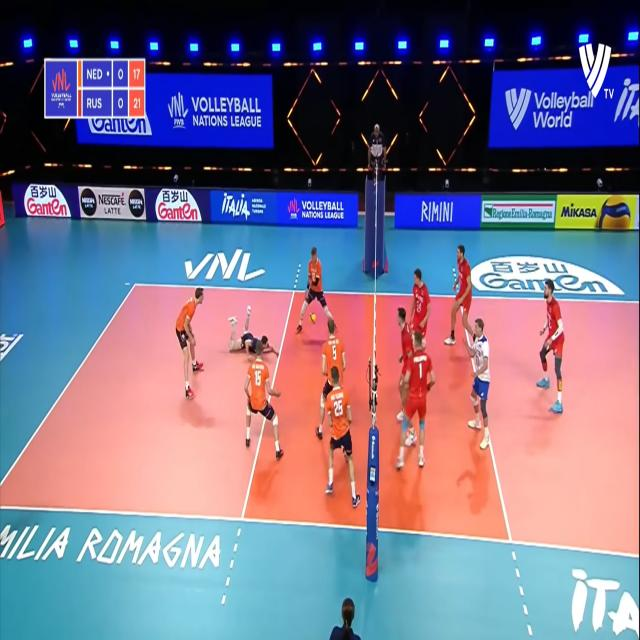player: (395, 329, 430, 470), (247, 338, 287, 457), (328, 364, 361, 508), (298, 239, 342, 339), (536, 274, 566, 413), (320, 313, 350, 451), (462, 315, 491, 453), (223, 294, 283, 357), (174, 287, 206, 403), (453, 234, 480, 348), (395, 303, 417, 428), (402, 263, 432, 344)
